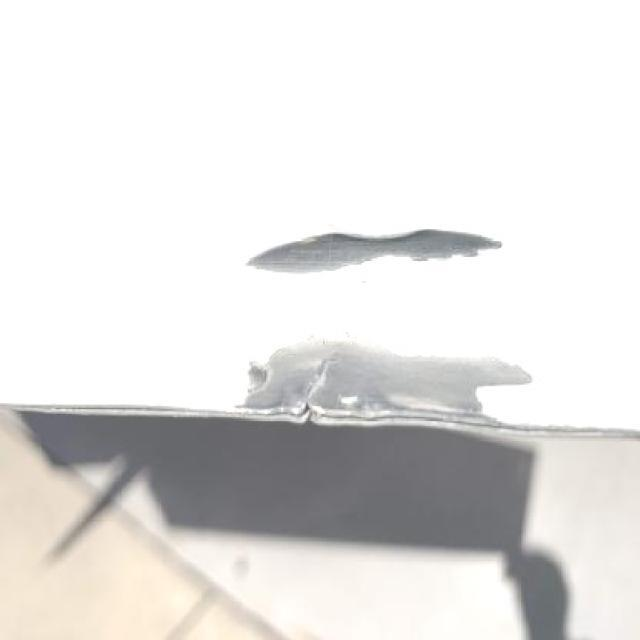crack: (304, 344, 355, 410)
